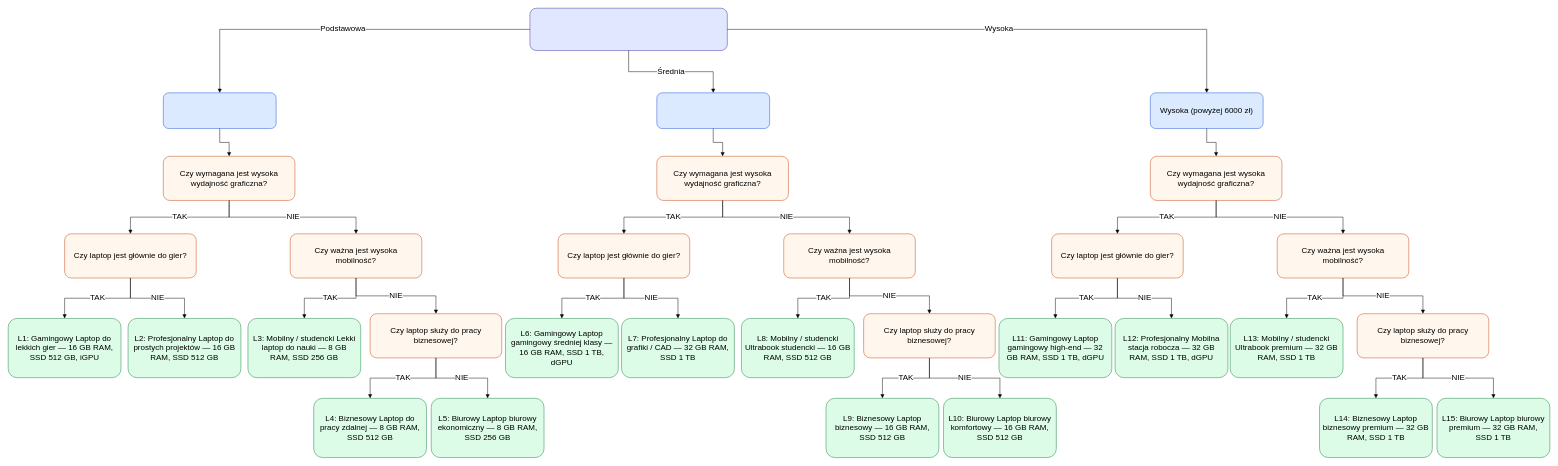
The diagram is 1558 pixels wide and 466 high, and some of its shapes have lost their labels. The centre of each missing label's shape, as x and y in pixels:
Budżet [PLN] → klasa budżetowa WNIOSEK POŚREDNI: the point at 628,29
Podstawowa (do 3000 zł): the point at 219,110
Średnia (3001–6000 zł): the point at 713,110
